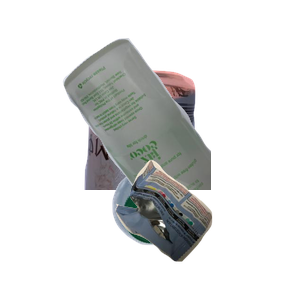glass: (60, 36, 300, 216)
metal: (82, 66, 270, 246)
plastic: (110, 164, 300, 300)
trash: (113, 157, 300, 300)
